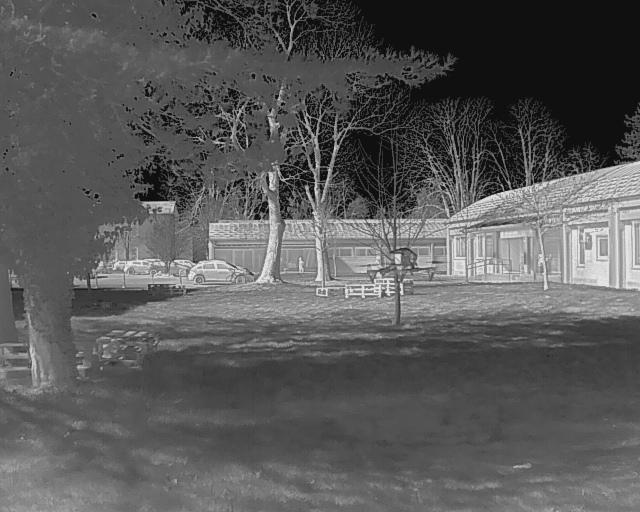drone: (350, 246, 434, 304)
